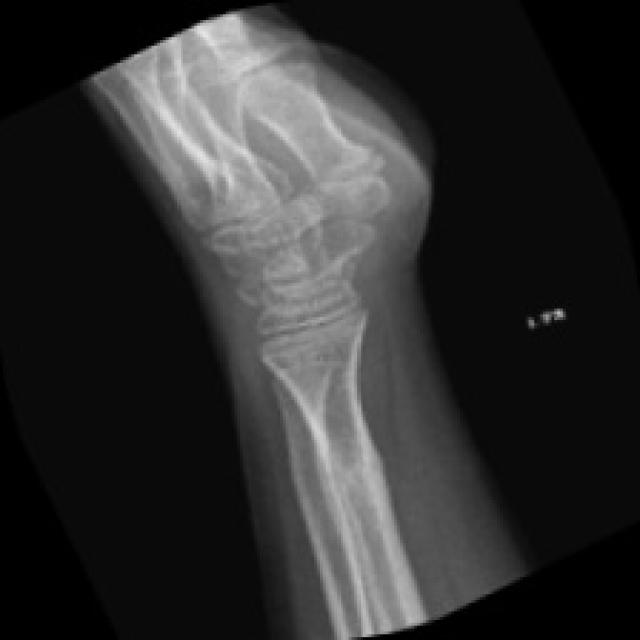fracture: (312, 429, 403, 527)
